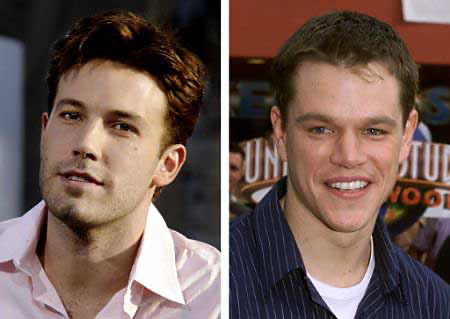Face: (37, 82, 164, 225), (287, 92, 406, 232)
